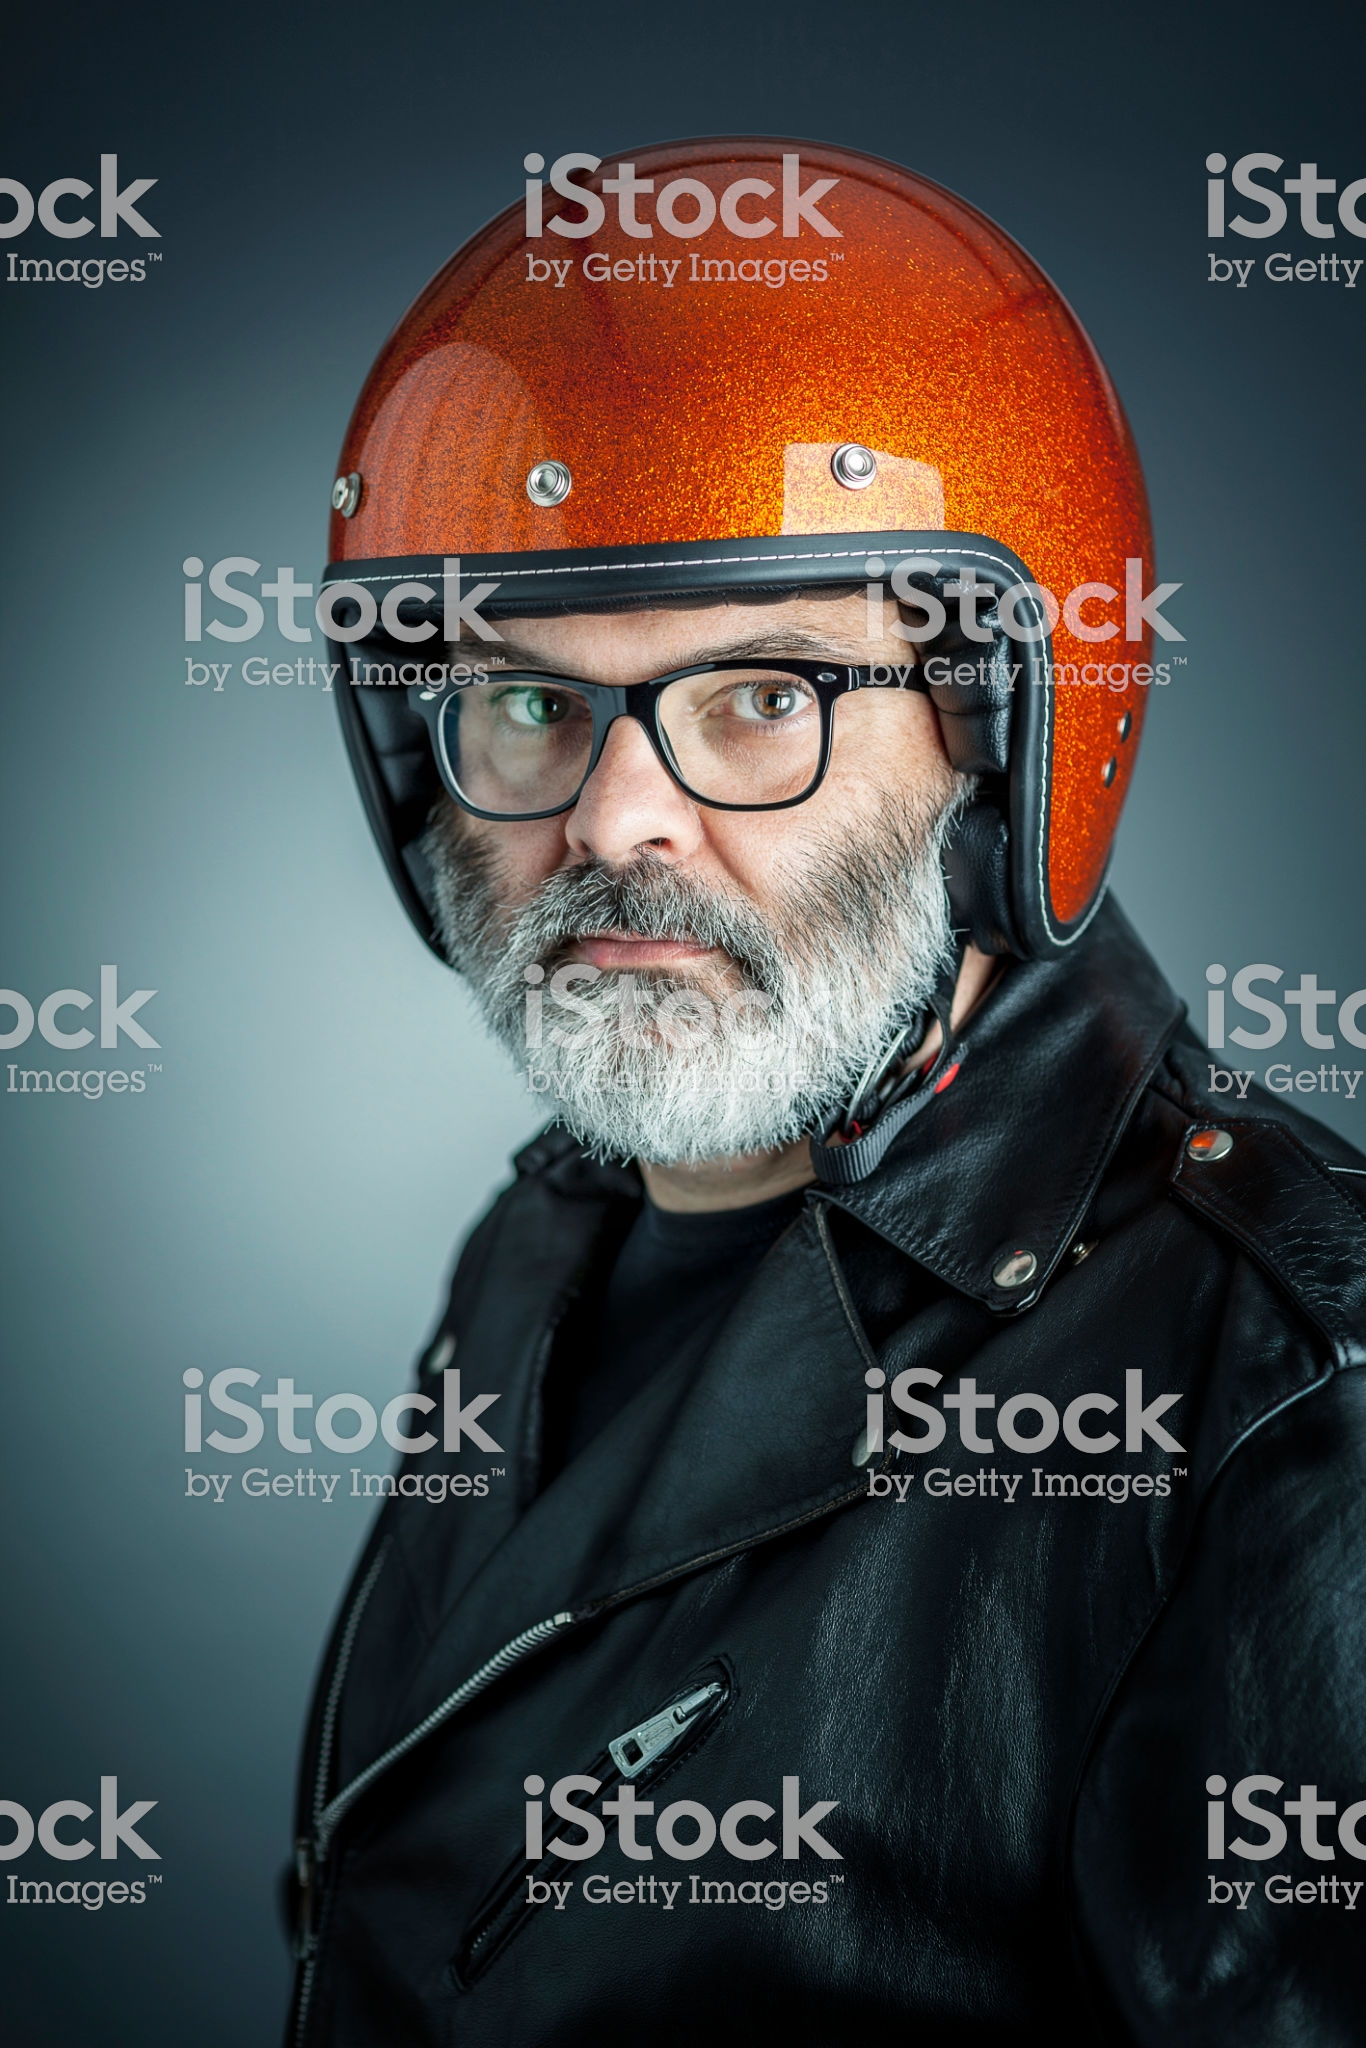helmet: (270, 143, 1259, 910)
